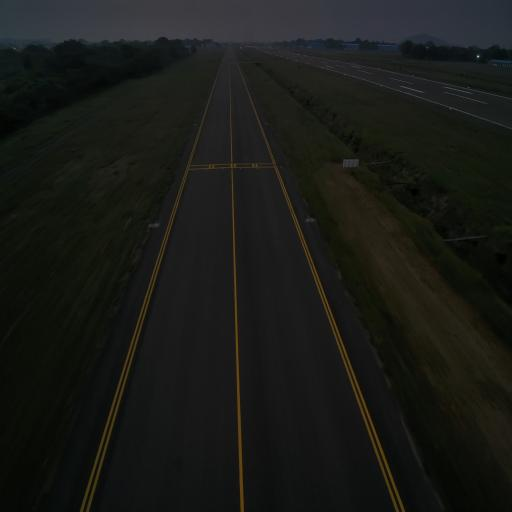on: (307, 214, 310, 220), (155, 219, 158, 224), (265, 120, 267, 124), (194, 121, 196, 124)
